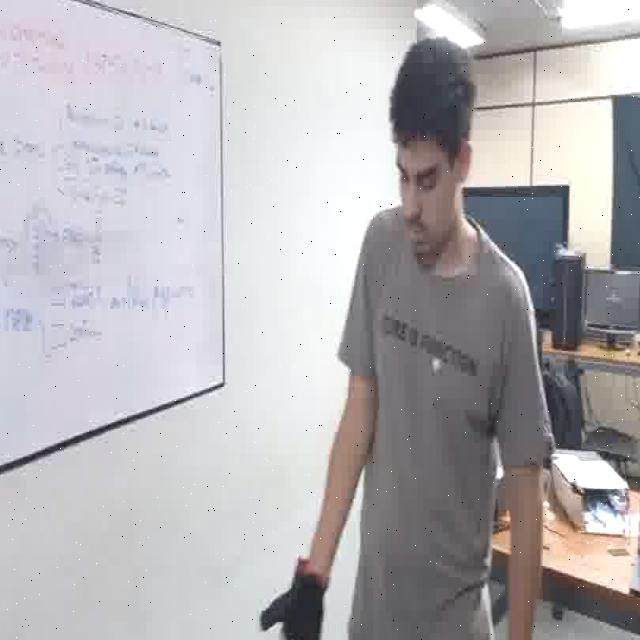Gloves: (262, 560, 334, 640)
